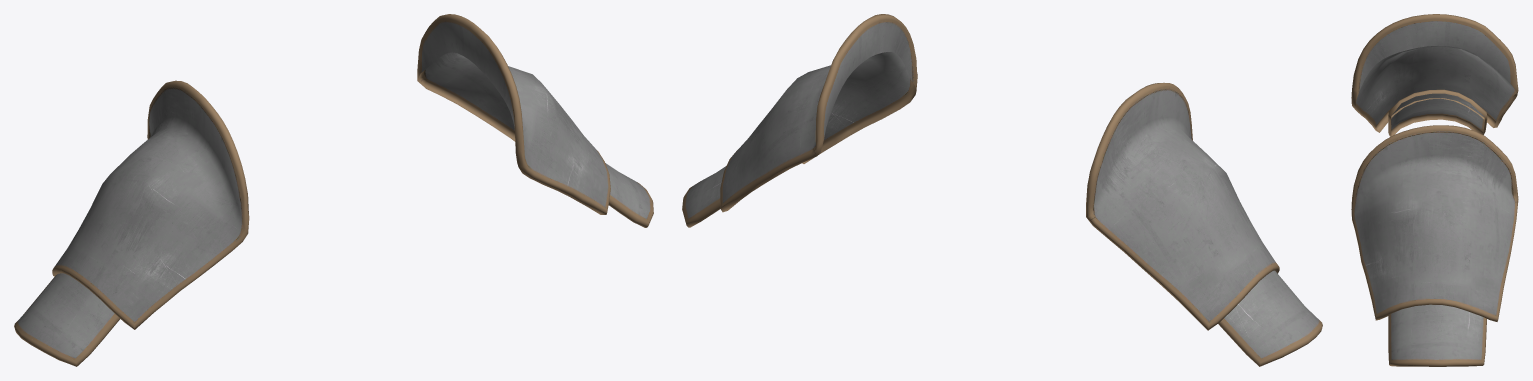
File: swan_knight_pauldrons_a2.fbx
3 views of the same model, side by side, from view 1: azimuth 30°, elevation 25°; view 2: azimuth 150°, elevation 25°; view 3: azimuth 270°, elevation 25° (orthographic). The views are drawn at different scales.
Parts seen in each view (by area): view 1: swan_knight_pauldrons_a2; view 2: swan_knight_pauldrons_a2; view 3: swan_knight_pauldrons_a2.
Boxes of the visible parts, x1,y1,x2,y2 form: swan_knight_pauldrons_a2: (14, 14, 653, 366); swan_knight_pauldrons_a2: (682, 14, 1322, 366); swan_knight_pauldrons_a2: (1351, 14, 1518, 366).
Bounding box in the file's own units: 0.7953 × 0.2255 × 0.271.
1 material, 1 textured.
